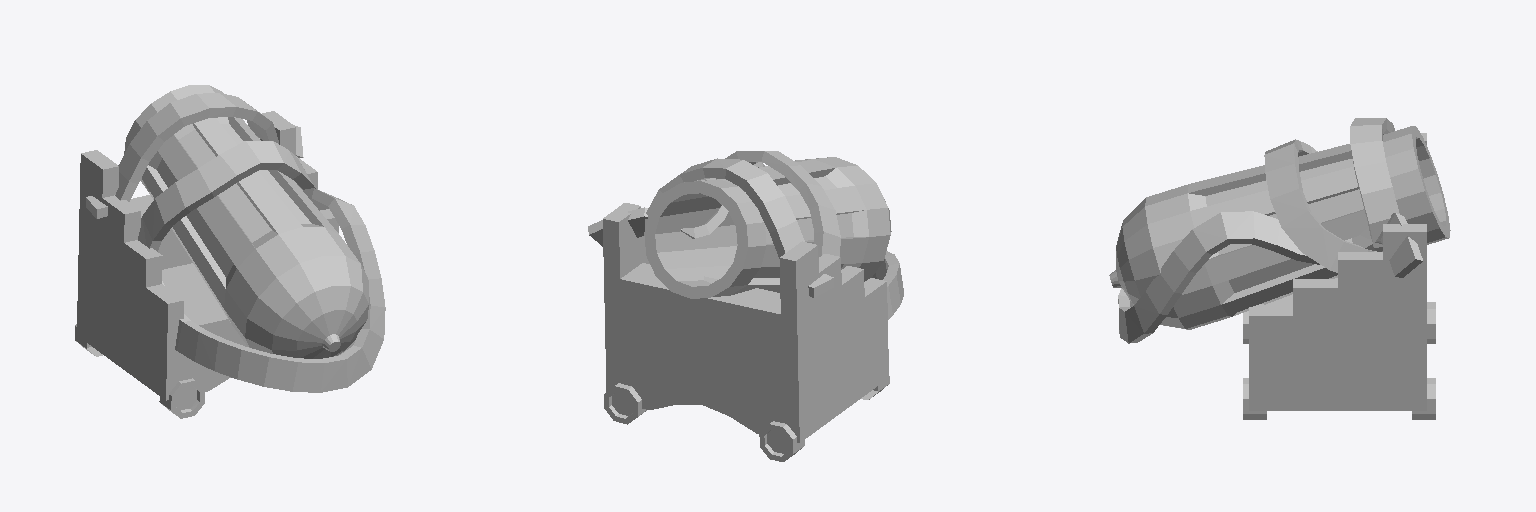
The model's file is cannon.obj.
3 renders of one model, left to right at view 1: azimuth 30°, elevation 25°; view 2: azimuth 150°, elevation 25°; view 3: azimuth 270°, elevation 25°, orthographic.
Size of the model in its own units: 2.33 by 2.51 by 3.06.